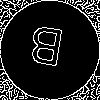B: (25, 25, 66, 76)
